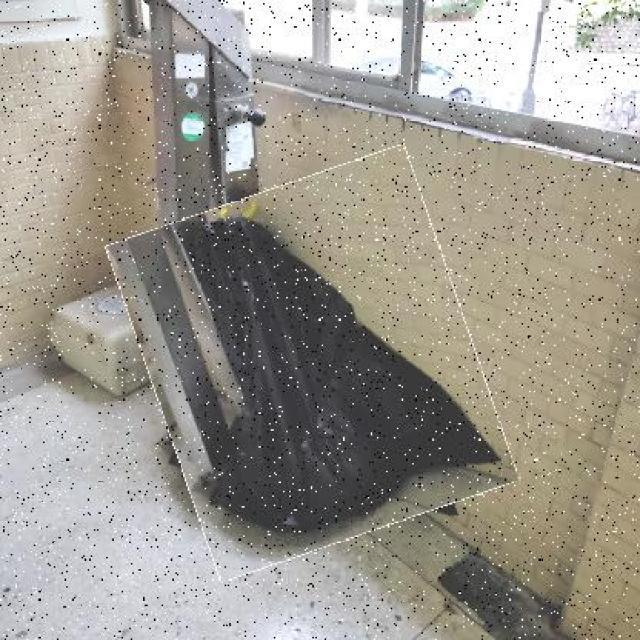waste: (129, 164, 494, 561)
